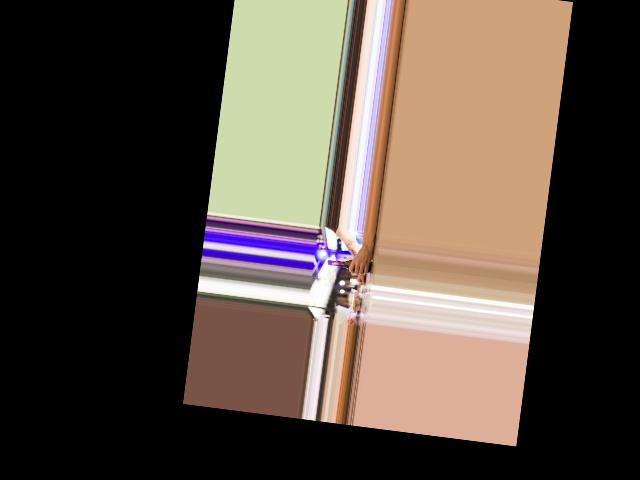beer: (327, 256, 371, 273)
